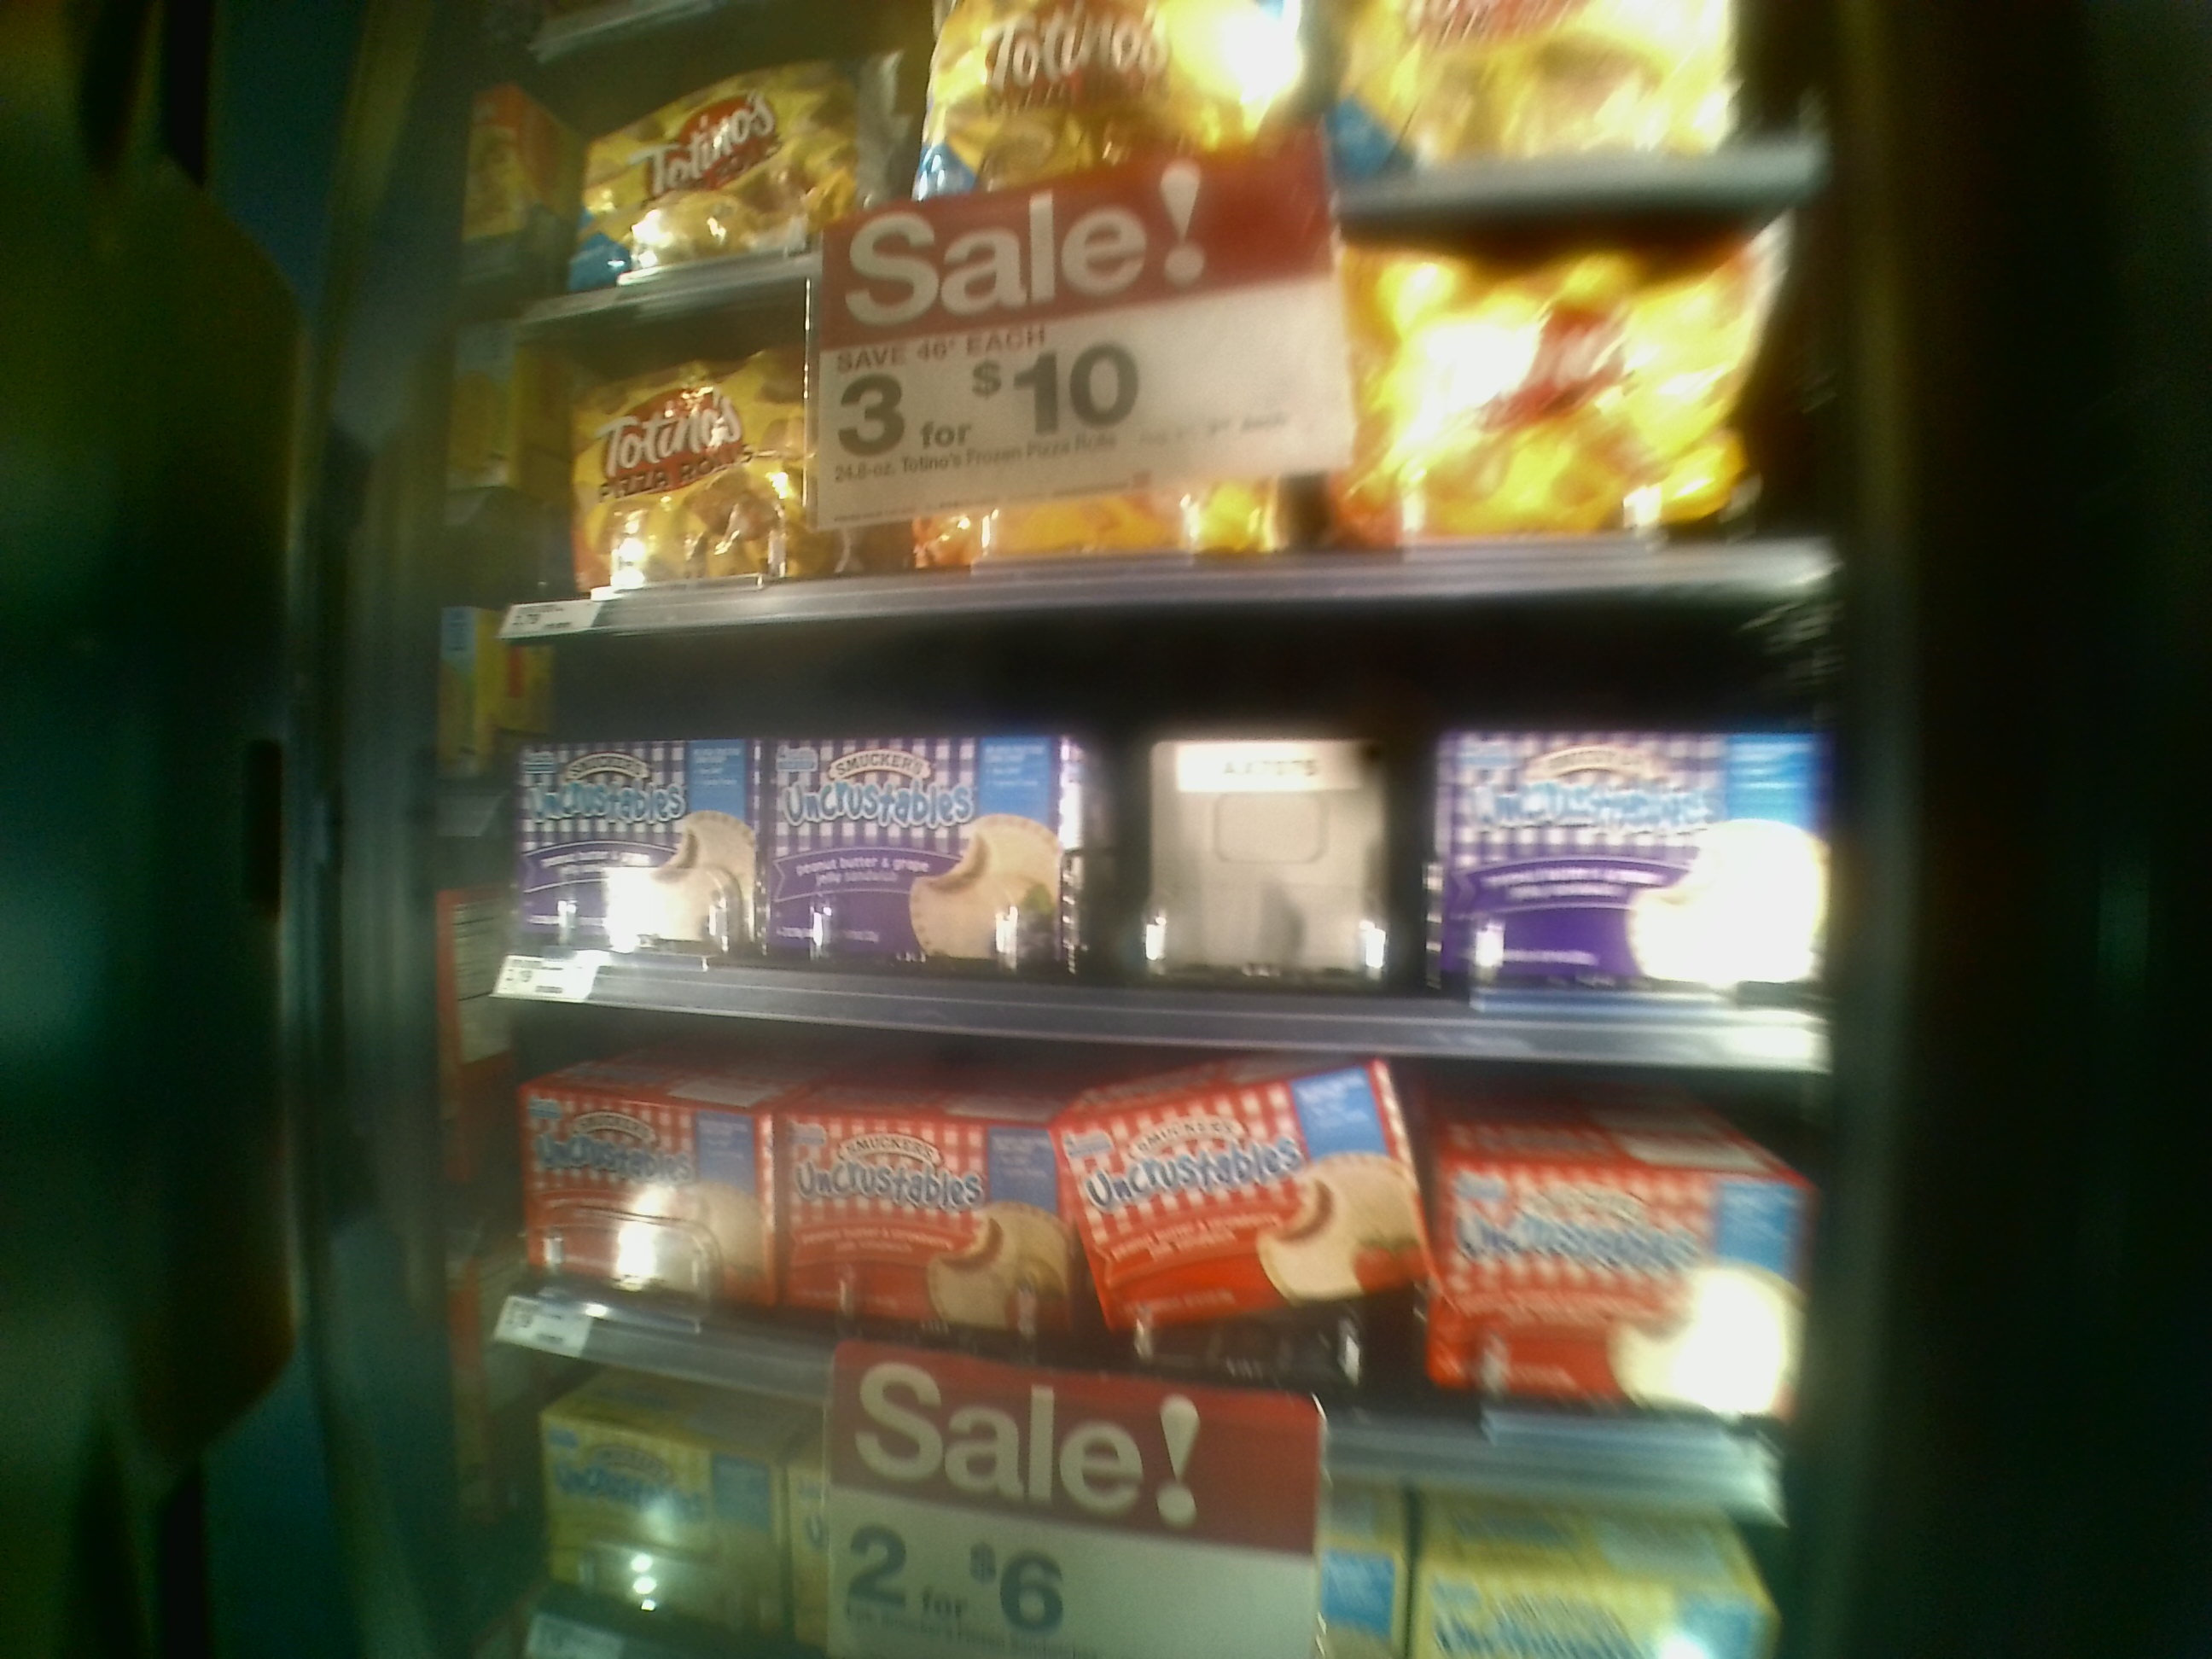shelf: (474, 619, 1820, 1086), (451, 1056, 1806, 1516)
